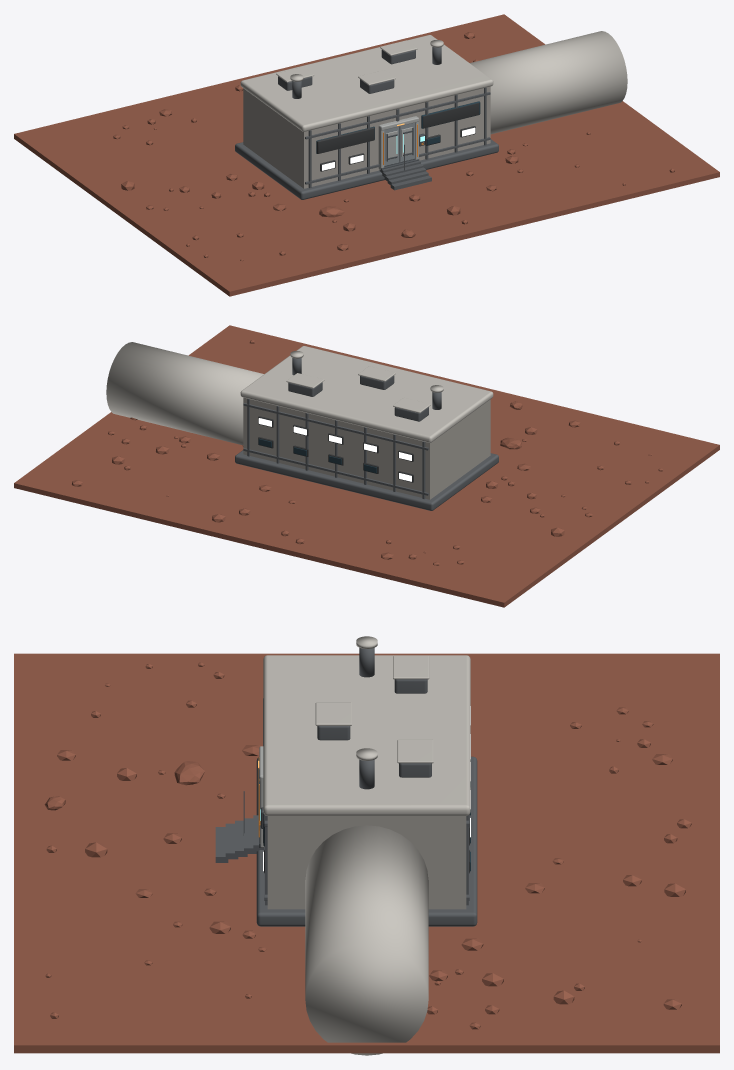
The model's file is LifeBlock.fbx.
The picture shows the model from 3 angles, top to bottom: view 1: azimuth 30°, elevation 25°; view 2: azimuth 150°, elevation 25°; view 3: azimuth 270°, elevation 25°; orthographic projection. The views are drawn at different scales.
Parts seen in each view (by area): view 1: Mars Terrain, Roof Armor, Pressurized Connection Tunnel, Main Pressurized Habitat, Reinforced Foundation, Vertical Reinforcement.012, Window Seal.003, Window Seal.004; view 2: Mars Terrain, Main Pressurized Habitat, Roof Armor, Pressurized Connection Tunnel, Reinforced Foundation, Horizontal Structural Beam.001, Horizontal Structural Beam.003; view 3: Mars Terrain, Roof Armor, Pressurized Connection Tunnel, Main Pressurized Habitat, Reinforced Foundation, Equipment Cover.001, Equipment Cover, Equipment Cover.002.
Part boxes in pixels (bbox=[...]): Mars Terrain: bbox=[14, 14, 719, 296]; Roof Armor: bbox=[240, 35, 493, 131]; Pressurized Connection Tunnel: bbox=[470, 31, 627, 134]; Main Pressurized Habitat: bbox=[243, 86, 490, 188]; Reinforced Foundation: bbox=[235, 139, 498, 199]; Vertical Reinforcement.012: bbox=[305, 87, 490, 188]; Window Seal.003: bbox=[317, 127, 374, 153]; Window Seal.004: bbox=[423, 103, 479, 128]; Mars Terrain: bbox=[14, 325, 719, 607]; Main Pressurized Habitat: bbox=[243, 397, 490, 499]; Roof Armor: bbox=[240, 346, 493, 442]; Pressurized Connection Tunnel: bbox=[106, 342, 263, 445]; Reinforced Foundation: bbox=[235, 450, 498, 510]; Horizontal Structural Beam.001: bbox=[243, 448, 428, 495]; Horizontal Structural Beam.003: bbox=[243, 403, 428, 450]; Mars Terrain: bbox=[14, 653, 719, 1053]; Roof Armor: bbox=[263, 655, 470, 815]; Pressurized Connection Tunnel: bbox=[305, 825, 428, 1055]; Main Pressurized Habitat: bbox=[267, 816, 466, 909]; Reinforced Foundation: bbox=[256, 756, 477, 926]; Equipment Cover.001: bbox=[397, 739, 433, 763]; Equipment Cover: bbox=[393, 656, 429, 679]; Equipment Cover.002: bbox=[315, 702, 351, 725].
Bounding box in the file's own units: 4200 × 828 × 3200.
